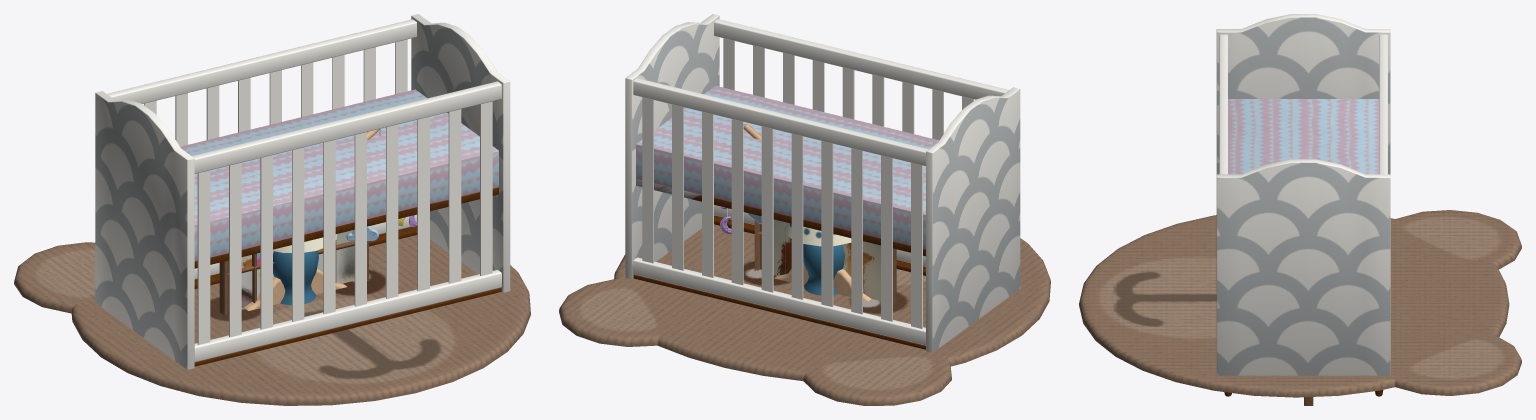
File: Berco e Algumas decoracoes.fbx
3 renders of one model, left to right at view 1: azimuth 30°, elevation 25°; view 2: azimuth 150°, elevation 25°; view 3: azimuth 270°, elevation 25°, orthographic. The views are drawn at different scales.
Visible parts, largest first — view 1: SM_Berco_01, SM_Tapete, SM_Berco_02, SM_Abajur, SM_Quadro_01, SM_Quadro_02, SM_Carrinho; view 2: SM_Berco_01, SM_Tapete, SM_Berco_02, SM_Quadro_02, SM_Abajur, SM_Carrinho; view 3: SM_Berco_01, SM_Tapete, SM_Berco_02.
Part boxes in pixels (x1,y1,x2,y2): SM_Berco_01: (95, 14, 510, 369); SM_Tapete: (14, 235, 530, 405); SM_Berco_02: (180, 89, 498, 268); SM_Abajur: (273, 234, 337, 305); SM_Quadro_01: (228, 241, 354, 307); SM_Quadro_02: (219, 229, 368, 315); SM_Carrinho: (244, 268, 347, 310); SM_Berco_01: (625, 14, 1020, 352); SM_Tapete: (559, 224, 1050, 405); SM_Berco_02: (636, 86, 939, 256); SM_Quadro_02: (754, 219, 896, 303); SM_Abajur: (783, 222, 851, 295); SM_Carrinho: (774, 263, 871, 301); SM_Berco_01: (1216, 14, 1390, 396); SM_Tapete: (1079, 210, 1521, 397); SM_Berco_02: (1228, 99, 1379, 174).
Size of the model in its own units: 1885 by 1375 by 1920.
